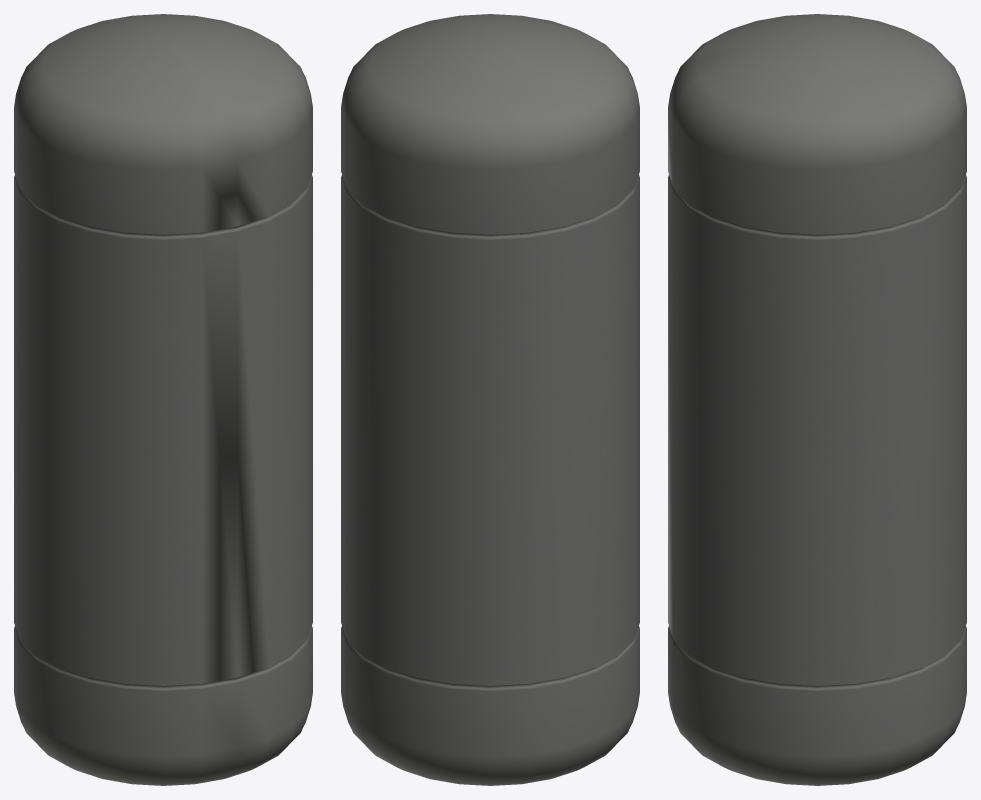
The model's file is propane-large-shell-tripo-original.glb.
3 views of the same model, side by side, from view 1: azimuth 30°, elevation 25°; view 2: azimuth 150°, elevation 25°; view 3: azimuth 270°, elevation 25° (orthographic).
Visible parts, largest first — view 1: Authored_surface; view 2: Authored_surface; view 3: Authored_surface.
Part boxes in pixels (left/top/right/bottom): Authored_surface: left=14, top=14, right=312, bottom=785; Authored_surface: left=341, top=14, right=639, bottom=785; Authored_surface: left=668, top=14, right=966, bottom=785.
Bounding box in the file's own units: 0.375 × 1 × 0.375.
Materials: 1 (1 with a texture image).
